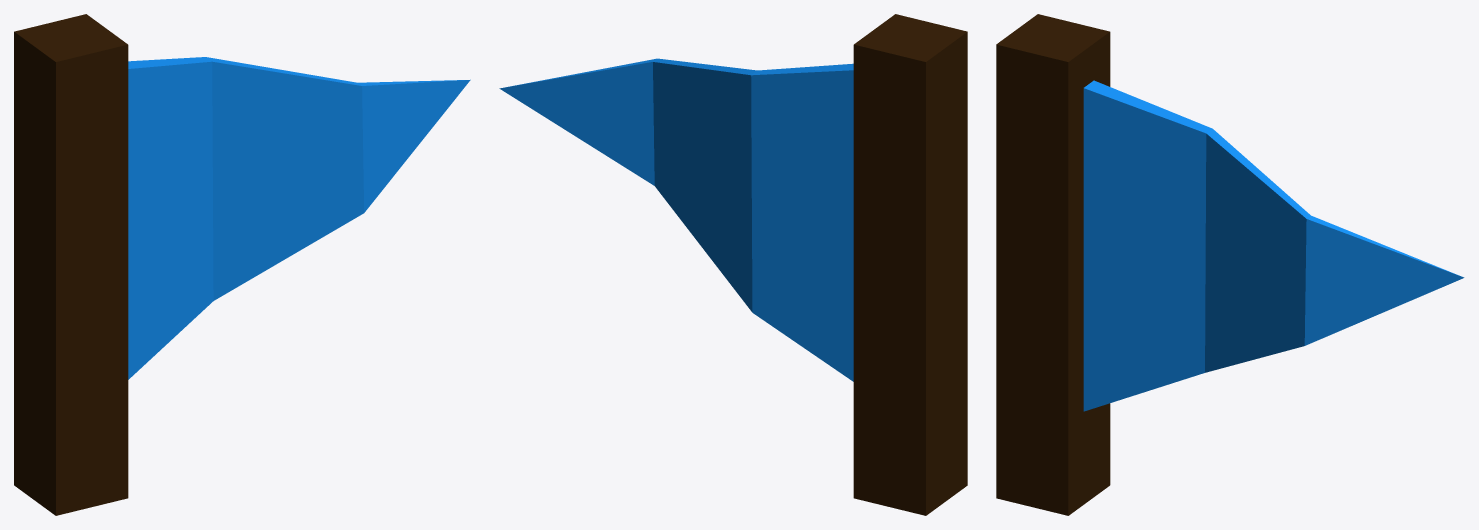
The model's file is blue_flag.glb.
The picture shows the model from 3 angles, left to right: view 1: azimuth 30°, elevation 25°; view 2: azimuth 150°, elevation 25°; view 3: azimuth 330°, elevation 25°; orthographic projection.
Parts seen in each view (by area): view 1: blue_flag; view 2: blue_flag; view 3: blue_flag.
Part boxes in pixels (x1,y1,x2,y2): blue_flag: (14, 14, 470, 515); blue_flag: (499, 14, 967, 515); blue_flag: (996, 14, 1464, 515).
Bounding box in the file's own units: 0.6112 × 0.6 × 0.1.
Materials: 1 (1 with a texture image).
